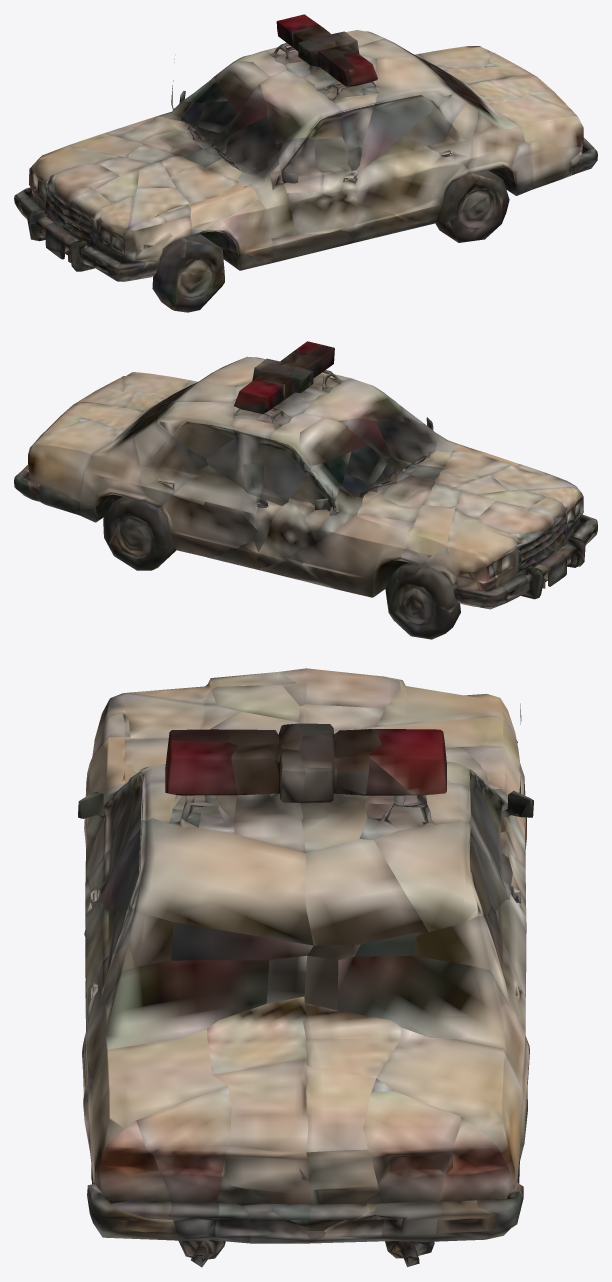
The model's file is car_police_light_q1.glb.
3 renders of one model, top to bottom at view 1: azimuth 30°, elevation 25°; view 2: azimuth 150°, elevation 25°; view 3: azimuth 270°, elevation 25°, orthographic. The views are drawn at different scales.
Bounding box in the file's own units: 4.03 × 1.45 × 1.58.
Materials: 1 (1 with a texture image).
